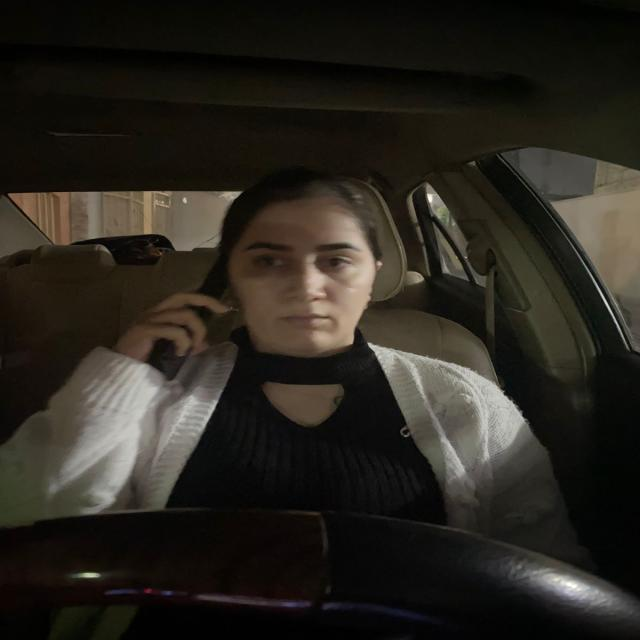phone: (168, 252, 227, 355)
